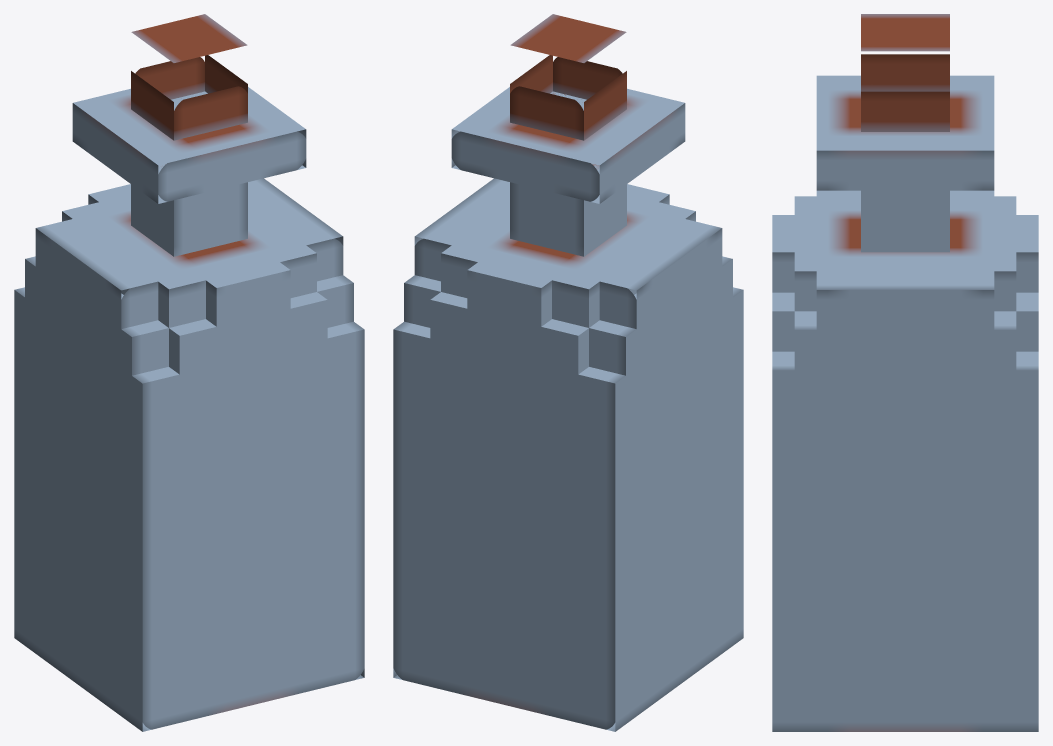
Rendered from bottle.obj.
3 renders of one model, left to right at view 1: azimuth 30°, elevation 25°; view 2: azimuth 150°, elevation 25°; view 3: azimuth 270°, elevation 25°, orthographic. The views are drawn at different scales.
Size of the model in its own units: 3 by 8 by 3.
1 material, 1 textured.
